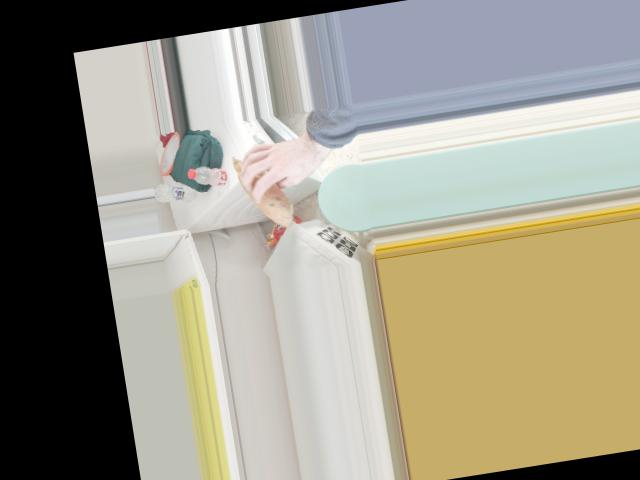sweet_potato: (234, 145, 295, 229)
